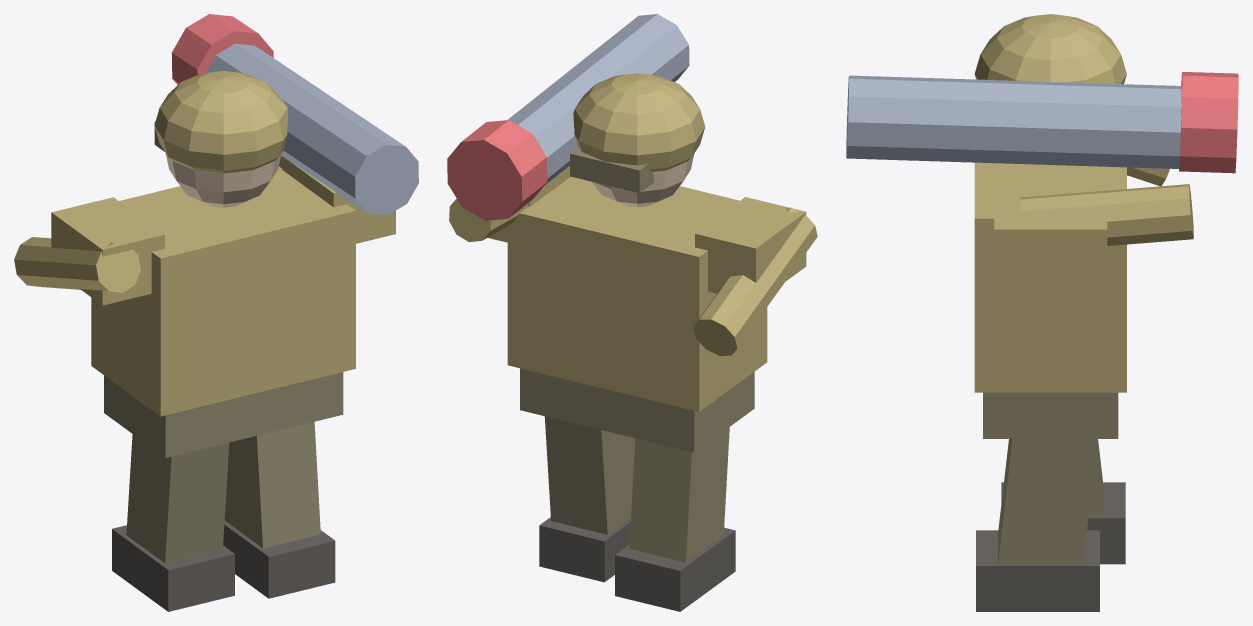
The model's file is dm_rocket.glb.
The picture shows the model from 3 angles, left to right: view 1: azimuth 30°, elevation 25°; view 2: azimuth 150°, elevation 25°; view 3: azimuth 270°, elevation 25°; orthographic projection. The views are drawn at different scales.
Parts seen in each view (by area): view 1: soldier; view 2: soldier; view 3: soldier.
Part boxes in pixels (x1,y1,x2,y2): soldier: (14,14,418,611); soldier: (447,14,817,611); soldier: (846,14,1238,611).
Size of the model in its own units: 0.6776 by 1.07 by 0.6955.
